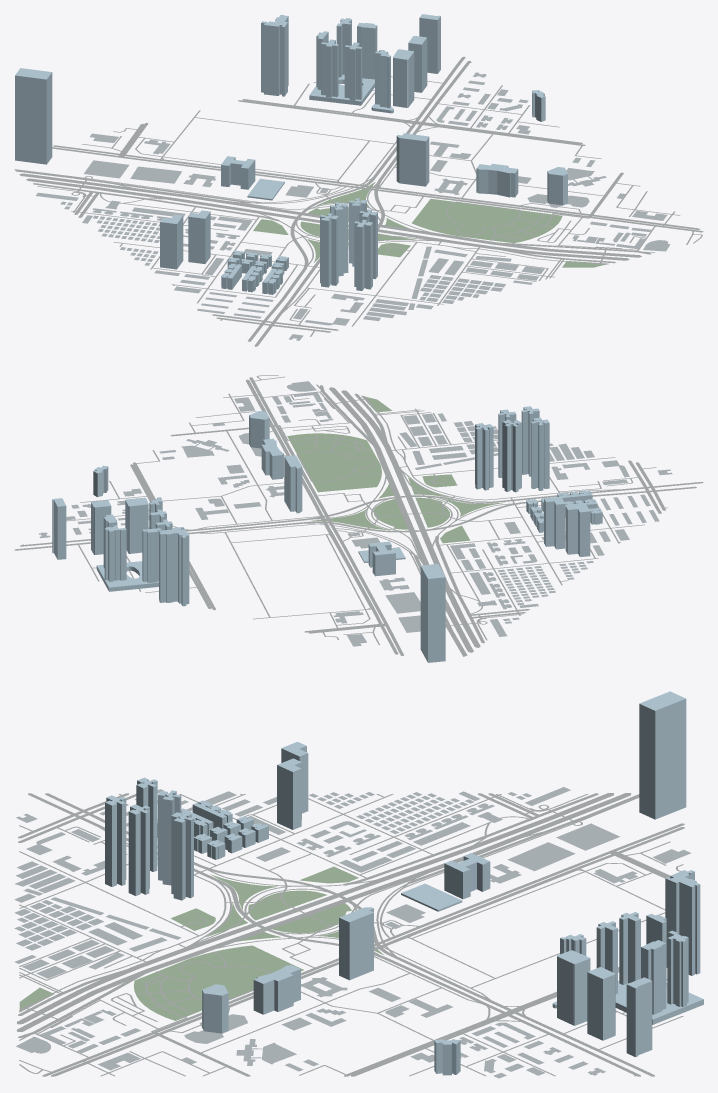
File: -14_3-known-coarse.glb
3 views of the same model, one above another, from view 1: azimuth 30°, elevation 25°; view 2: azimuth 150°, elevation 25°; view 3: azimuth 270°, elevation 25° (orthographic). The views are drawn at different scales.
Bounding box in the file's own units: 1035 × 180 × 1035.
